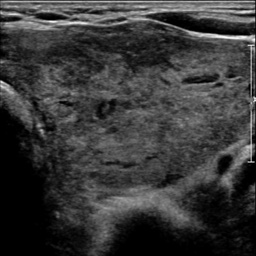mass: (35, 31, 252, 187)
